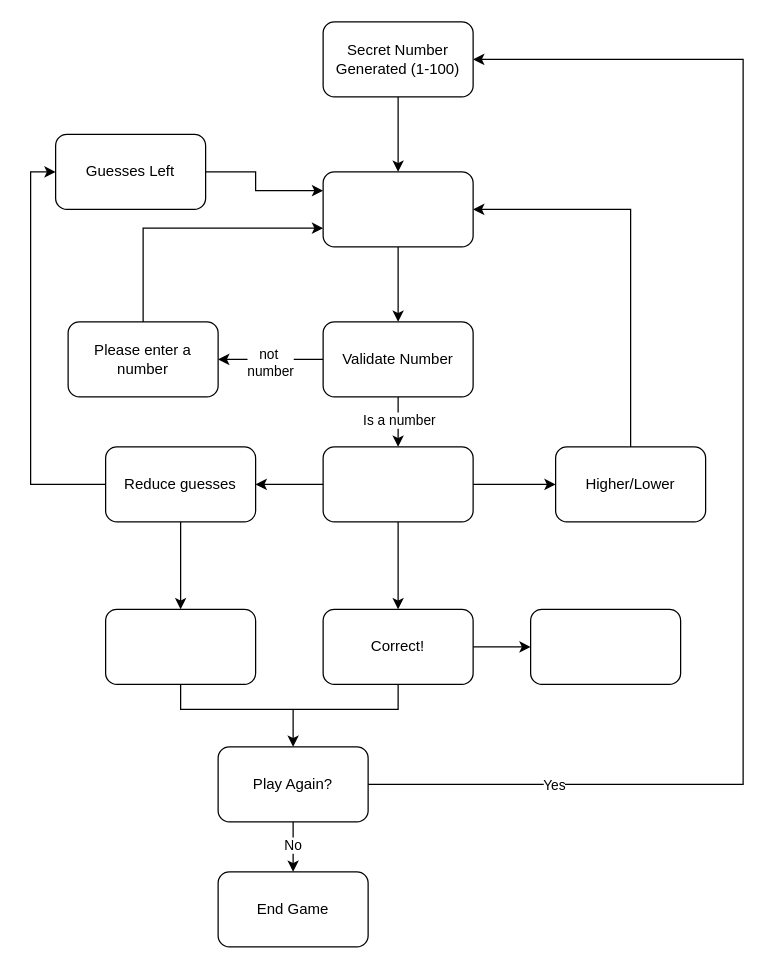
Some shapes in this 775 by 969 pixel diagram are drawn without their labels. Here are the shapes that lost their labels. From the top down, the centre of each, then its label:
At pixel 397 209: "Input Guess".
At pixel 397 484: "Check guess against secret number".
At pixel 180 646: "Out of Guesses".
At pixel 605 646: "Assign points based on guesses used".
